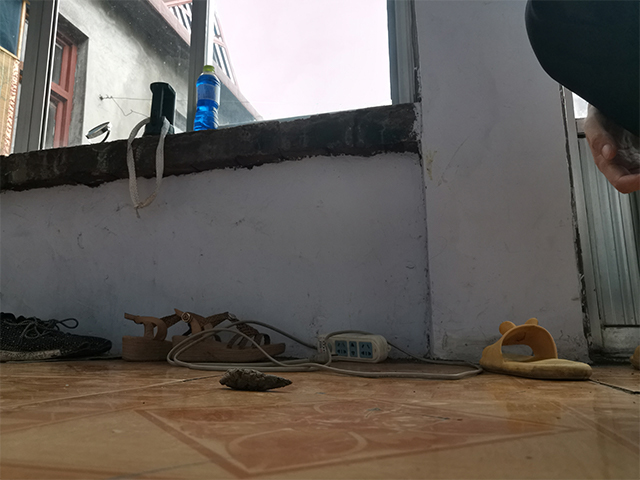feces: (216, 365, 295, 393)
slippers: (119, 306, 288, 365), (476, 316, 594, 382)
wire: (163, 318, 486, 382)
